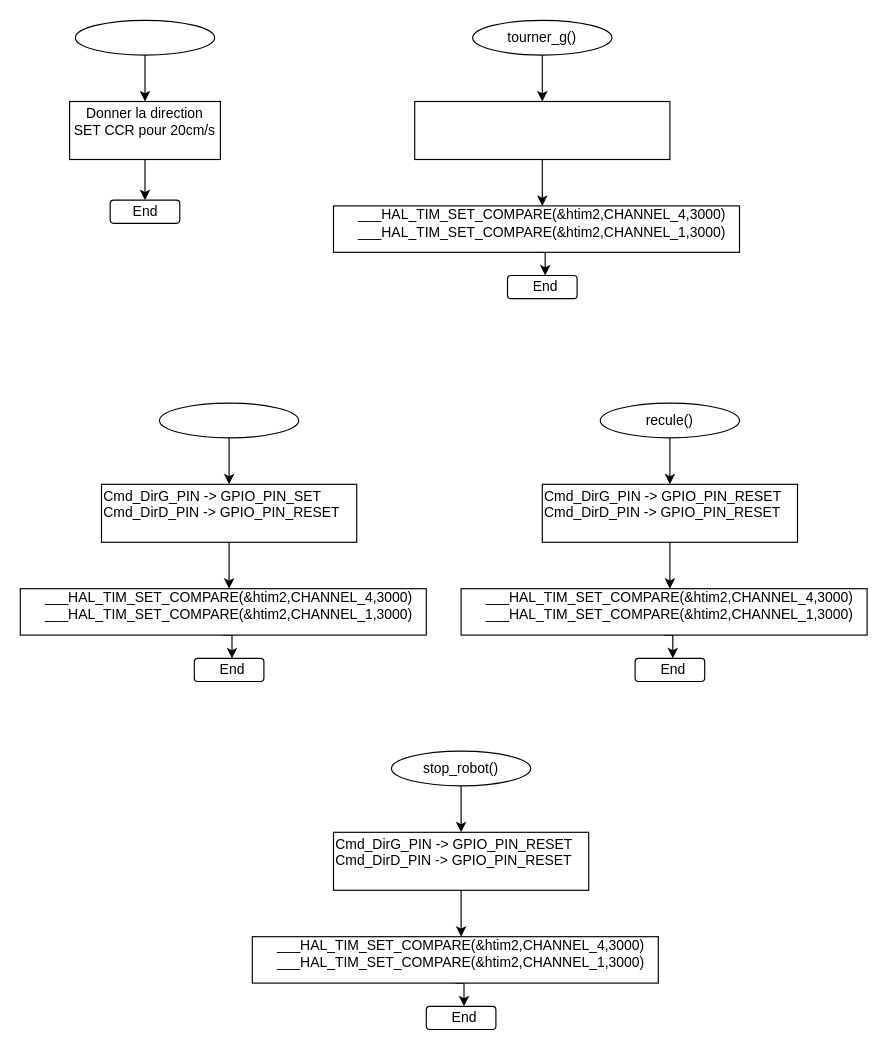
The diagram is 887 pixels wide and 1050 high, and some of its shapes have lost their labels. Here are the shapes that lost their labels. From the top down, the centre of each, then its label:
At pixel 144 37: "avancer20()".
At pixel 542 130: "Cmd_DirD_PIN -> GPIO_PIN_SET Cmd_DirG_PIN -> GPIO_PIN_RESET".
At pixel 228 420: "tourner_d()".
